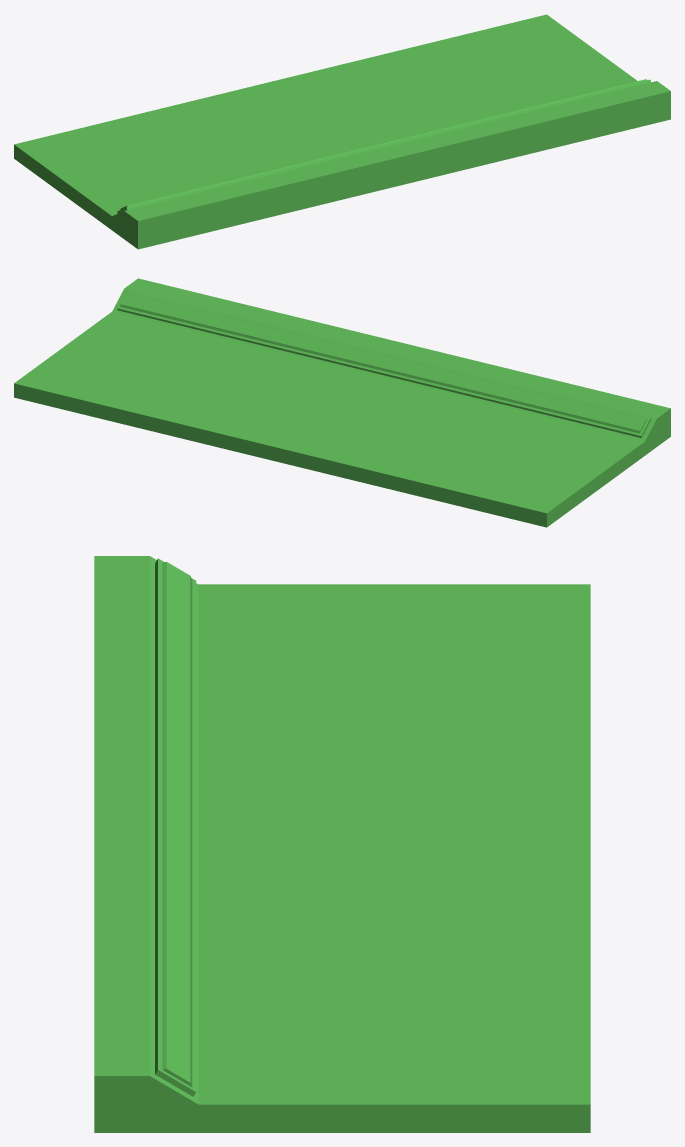
Rendered from zemintekkenaruzun.fbx.
3 renders of one model, top to bottom at view 1: azimuth 30°, elevation 25°; view 2: azimuth 150°, elevation 25°; view 3: azimuth 270°, elevation 25°, orthographic. The views are drawn at different scales.
Visible parts, largest first — view 1: Cube.015; view 2: Cube.015; view 3: Cube.015.
Boxes of the visible parts, x1,y1,x2,y2 form: Cube.015: (14, 14, 670, 249); Cube.015: (14, 278, 670, 527); Cube.015: (94, 556, 590, 1132).
Bounding box in the file's own units: 4569 × 242 × 1844.
